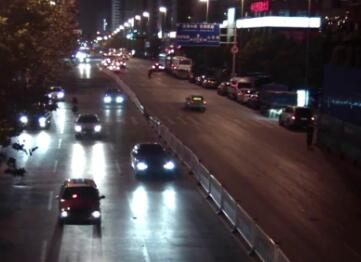bus: (164, 53, 192, 78), (157, 51, 171, 68)
car: (52, 177, 106, 227), (129, 145, 174, 179), (256, 82, 295, 116), (15, 99, 53, 132), (277, 103, 314, 130), (72, 113, 103, 141), (225, 75, 253, 98), (100, 86, 125, 106), (184, 92, 208, 111), (235, 85, 259, 104), (46, 84, 67, 102), (201, 75, 217, 89), (149, 59, 165, 73), (104, 63, 121, 72), (78, 55, 89, 64), (117, 58, 127, 67)
